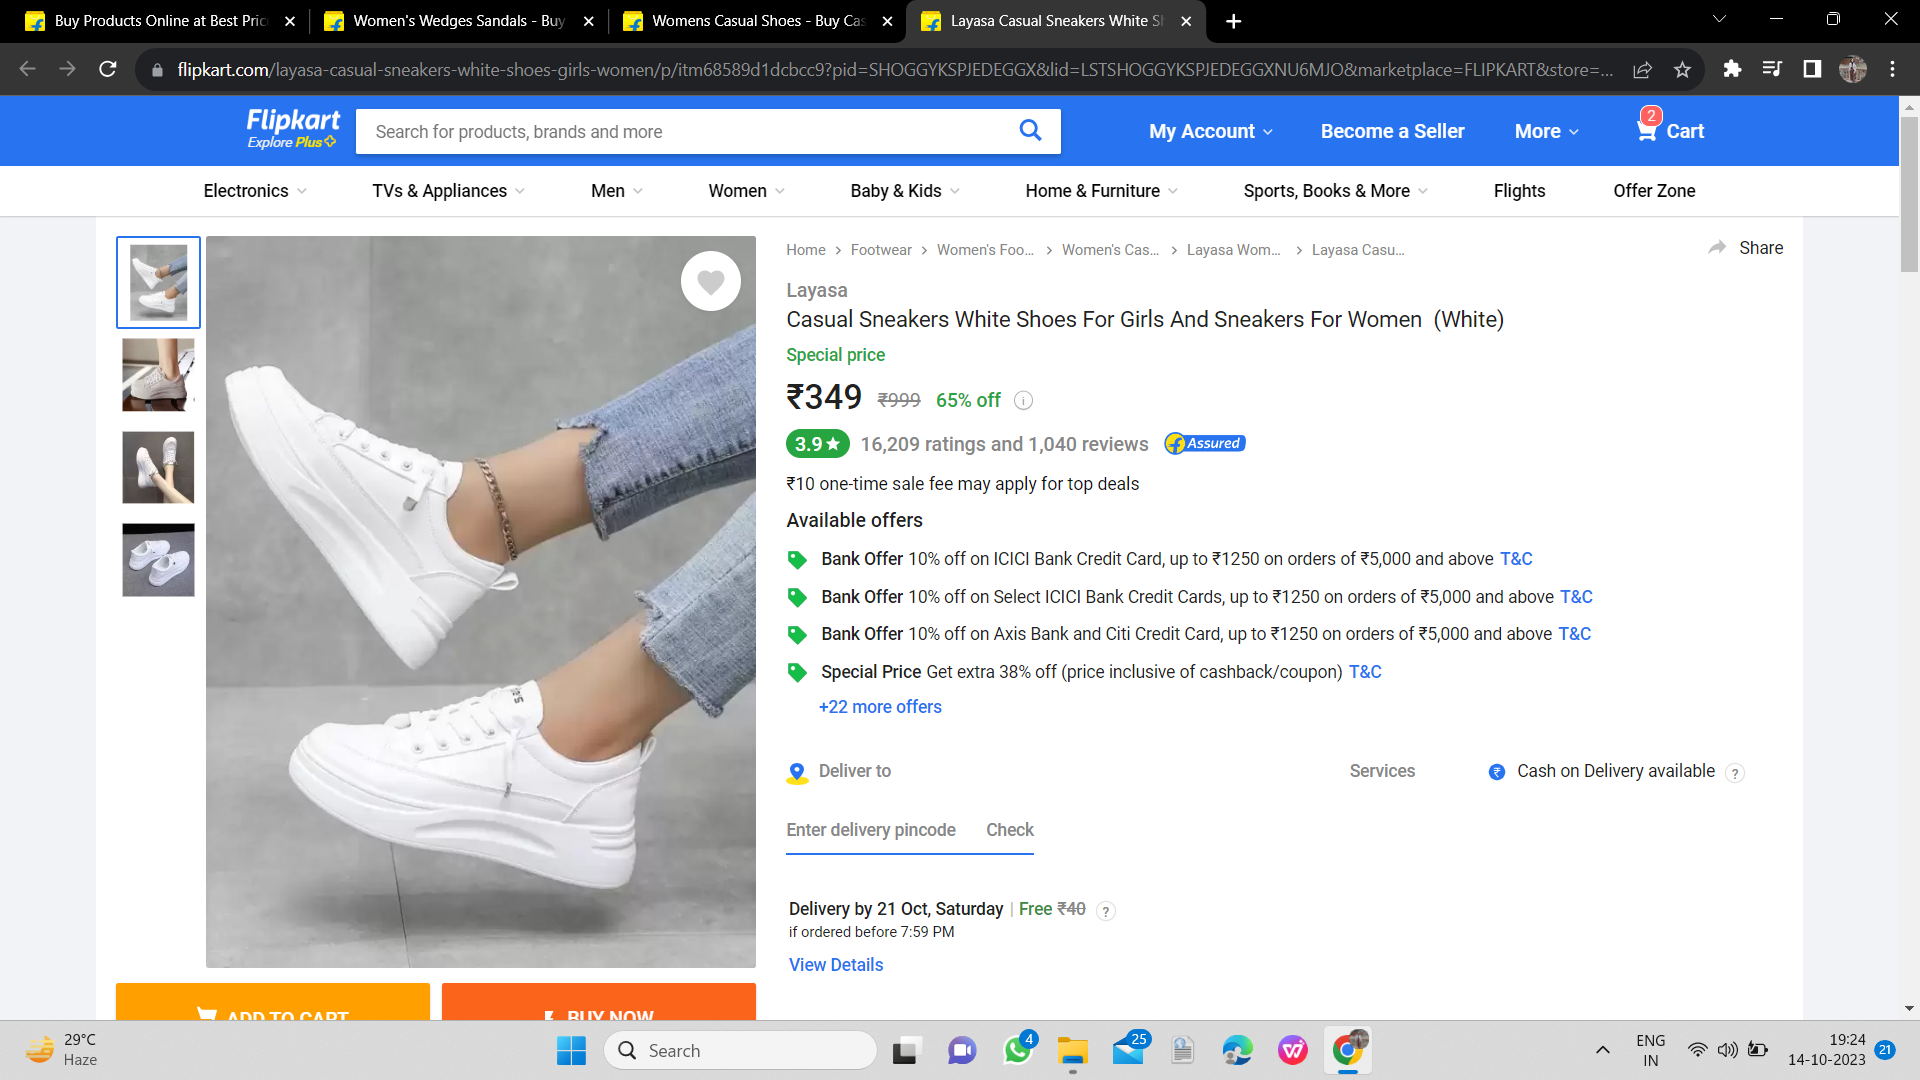Image: (203, 235, 754, 951)
Paragraph: (778, 547, 1619, 721), (779, 276, 1519, 340), (1134, 96, 1710, 156), (771, 761, 1040, 851), (771, 352, 997, 418), (773, 430, 1265, 458), (782, 463, 1149, 496), (775, 886, 1013, 924), (1352, 761, 1726, 783), (775, 513, 934, 531)
